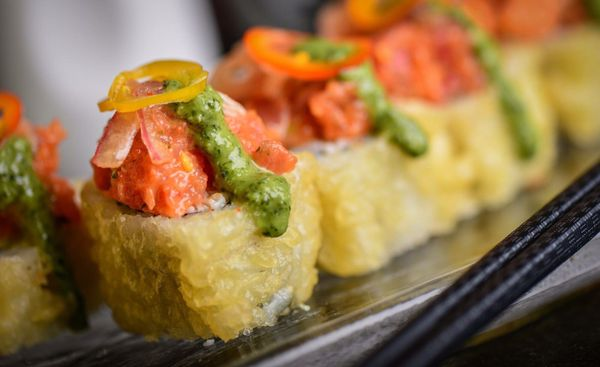soup: (59, 57, 325, 340)
